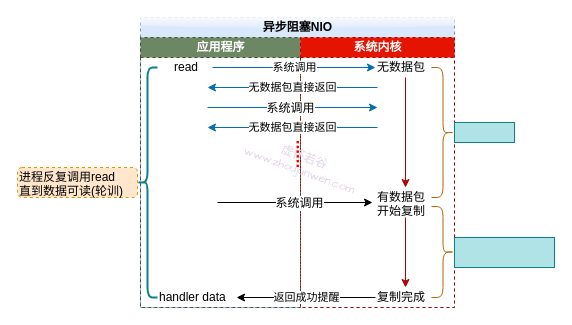
Image size: 572x325. Some labels were removed from this diagram. Here are the shapes that lost their labels. From the top down, the centre of each, then its label:
At pixel 484 132: "等待数据".
At pixel 504 252: "将数据从内核 复制到用户空间".
